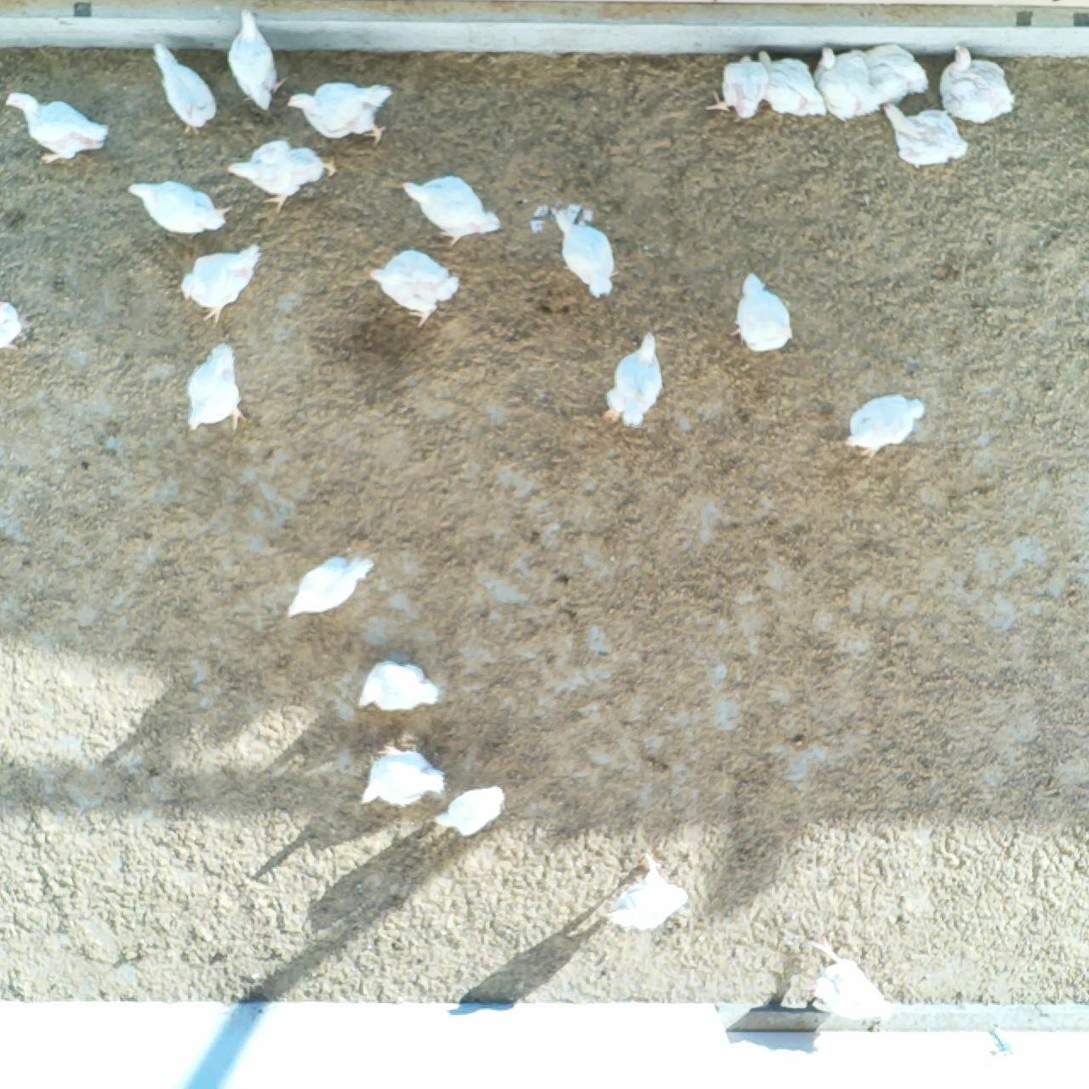chicken: (225, 135, 340, 213), (365, 242, 465, 329), (804, 935, 899, 1023), (4, 90, 110, 167), (396, 168, 502, 245), (605, 845, 696, 933), (177, 235, 265, 322), (150, 40, 225, 142), (284, 76, 394, 144), (933, 40, 1017, 128), (283, 548, 375, 626), (601, 328, 669, 433), (550, 202, 618, 307), (881, 94, 971, 173), (124, 173, 231, 238), (181, 335, 250, 435), (361, 742, 447, 814), (844, 390, 926, 462), (226, 8, 284, 109), (811, 45, 887, 122), (730, 268, 792, 357), (752, 48, 827, 119), (848, 42, 925, 109), (358, 656, 443, 716), (704, 52, 770, 121), (433, 783, 509, 838), (0, 294, 24, 356)
